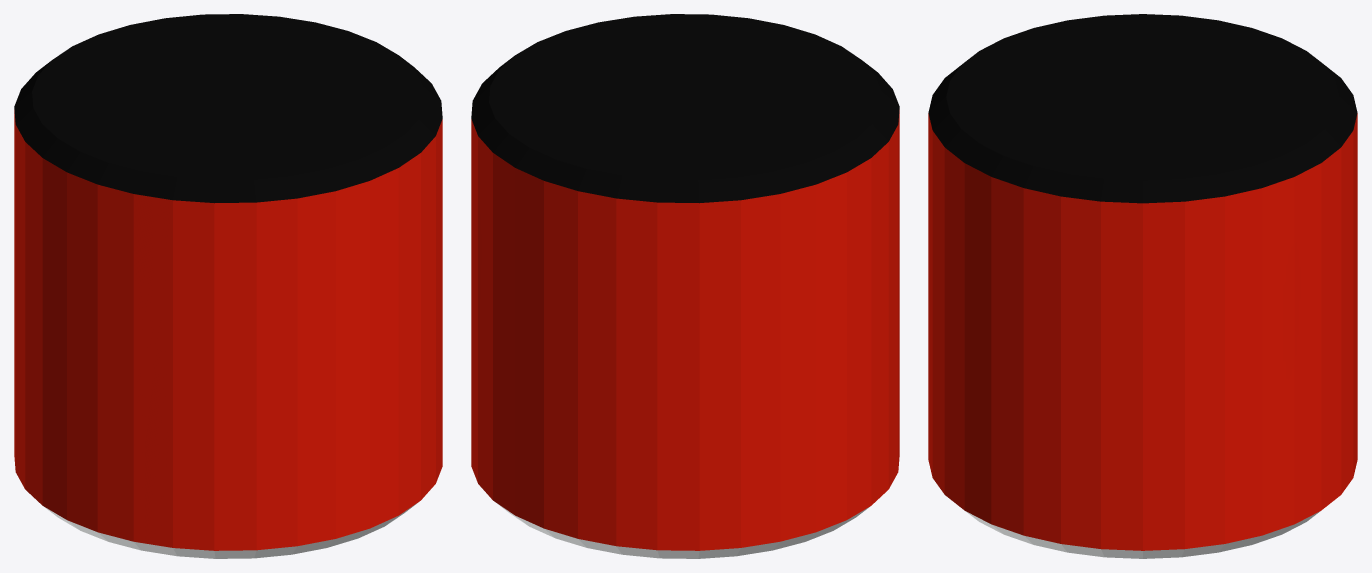
Rendered from DarumaBody.obj.
The picture shows the model from 3 angles, left to right: view 1: azimuth 30°, elevation 25°; view 2: azimuth 150°, elevation 25°; view 3: azimuth 270°, elevation 25°; orthographic projection.
Visible parts, largest first — view 1: 円柱; view 2: 円柱; view 3: 円柱.
Part boxes in pixels (x1,y1,x2,y2): 円柱: [14, 14, 442, 558]; 円柱: [471, 14, 899, 558]; 円柱: [928, 14, 1357, 558].
Size of the model in its own units: 2 by 1.95 by 2.
1 material, 1 textured.
